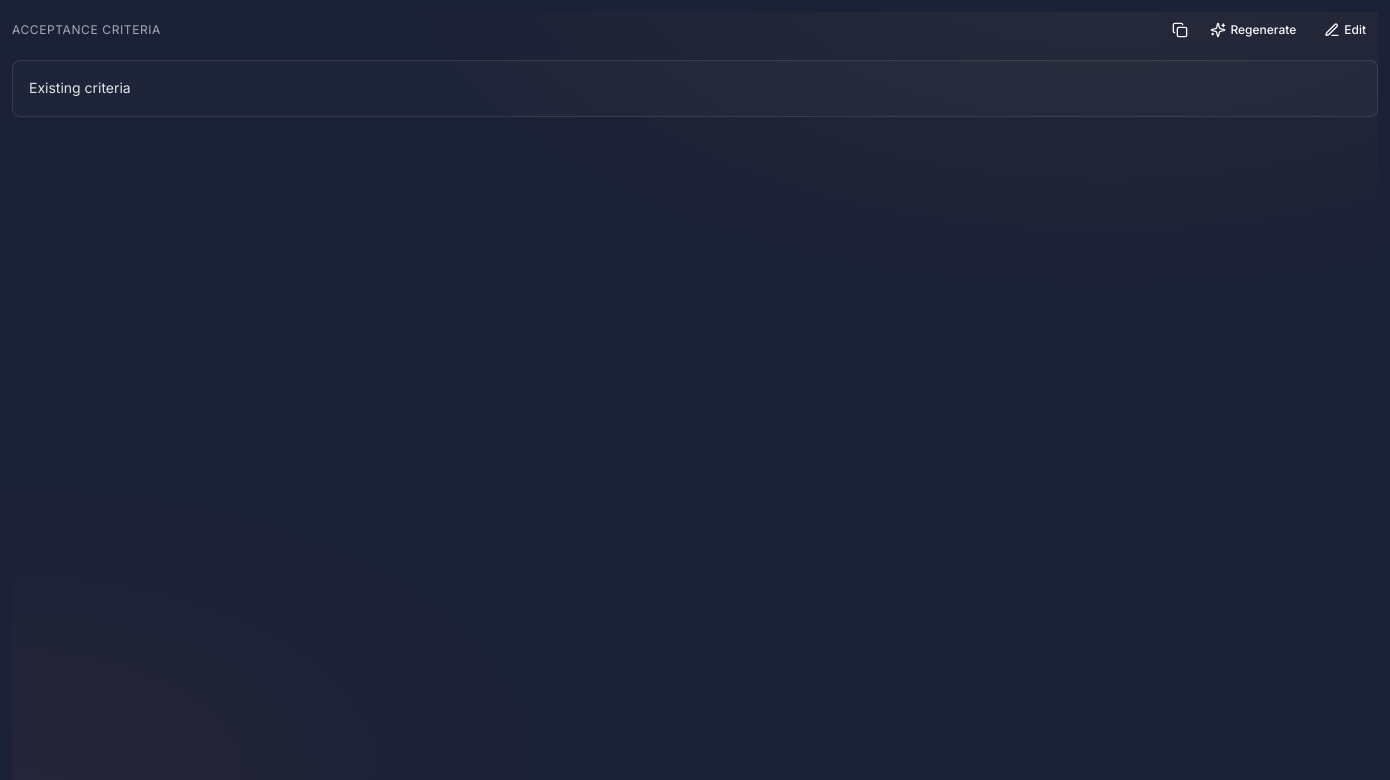
Scenario: acceptance criteria lazy loading safety › does not fetch while disabled, and prevents saving or generating before the real value loads
This screenshot has width=1390, height=780.
Later steps or results of the test are not shown.
Click the button "Edit". click: point(1345, 30)
box: 1312,12 -> 1378,48
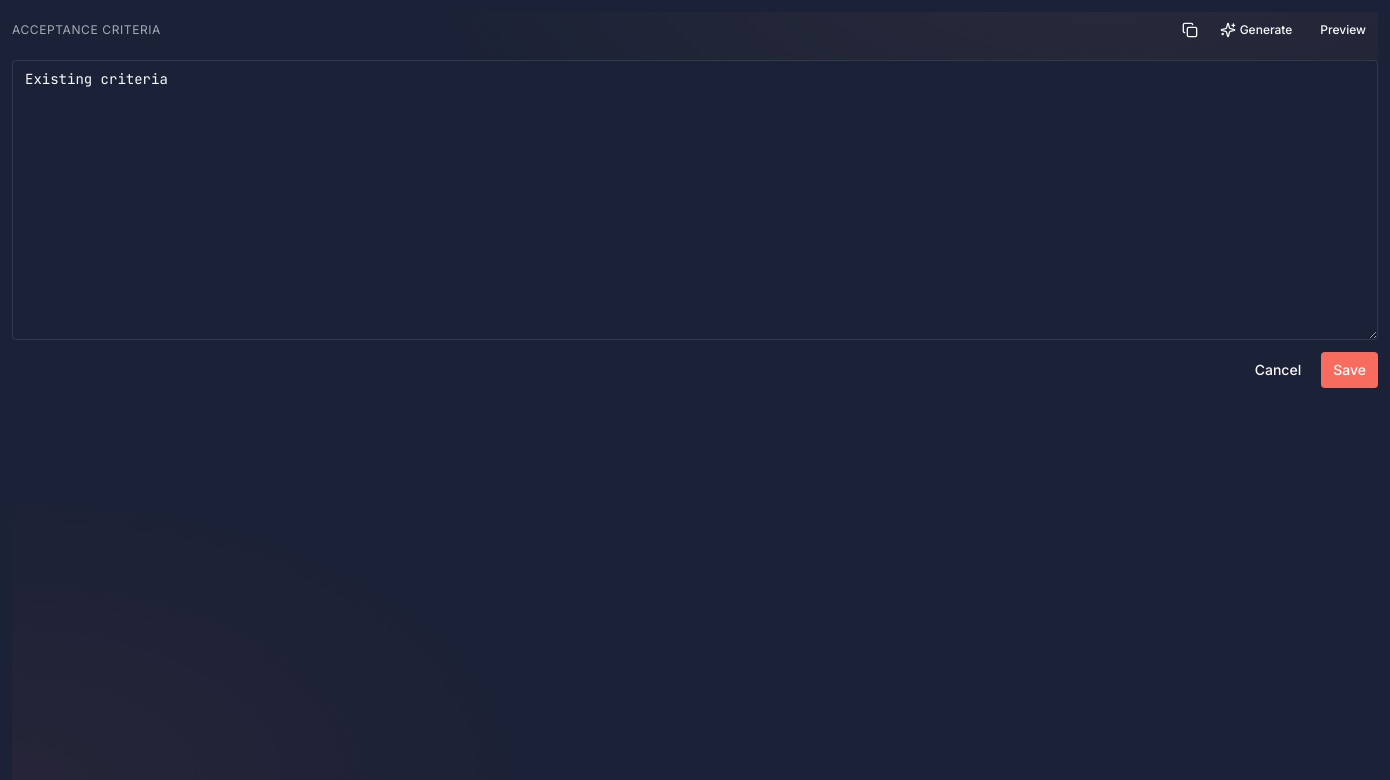
expect the text box holds "Existing criteria": met
Replace the text in the text box with "Saved criteria". click: point(695, 200)
box: 12,60 -> 1378,340
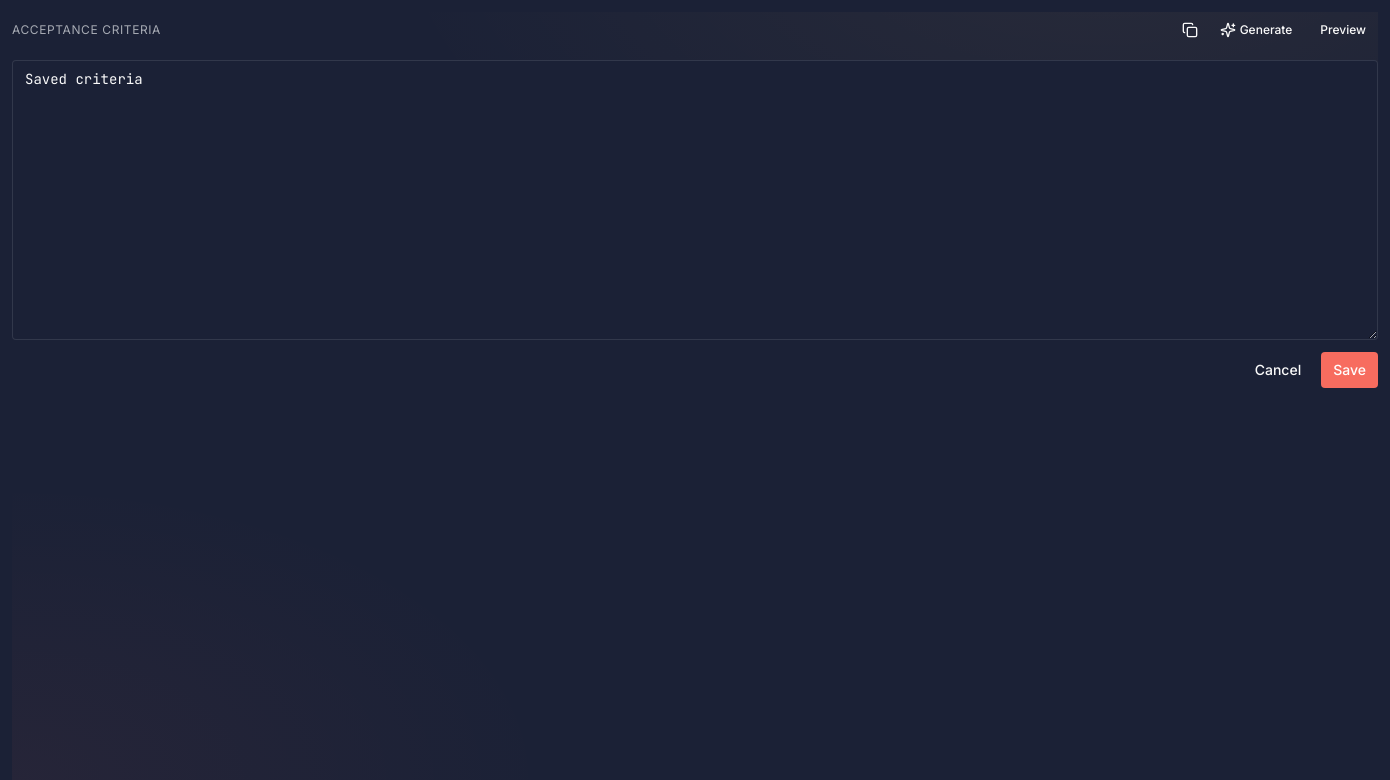
Click the button "Save". click: point(1350, 370)
box: 1321,352 -> 1378,388
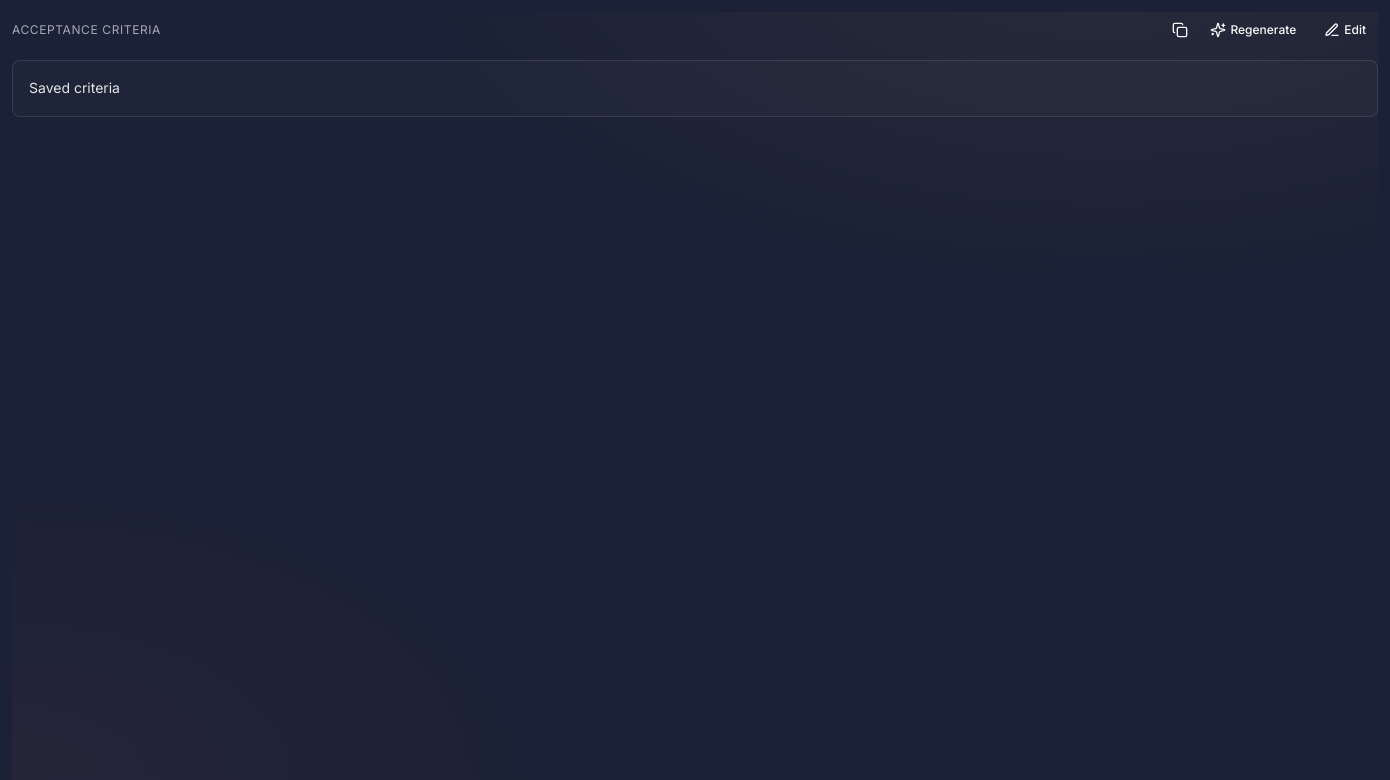
expect the text "Saved criteria" is shown: met, box 29,79 -> 120,96
